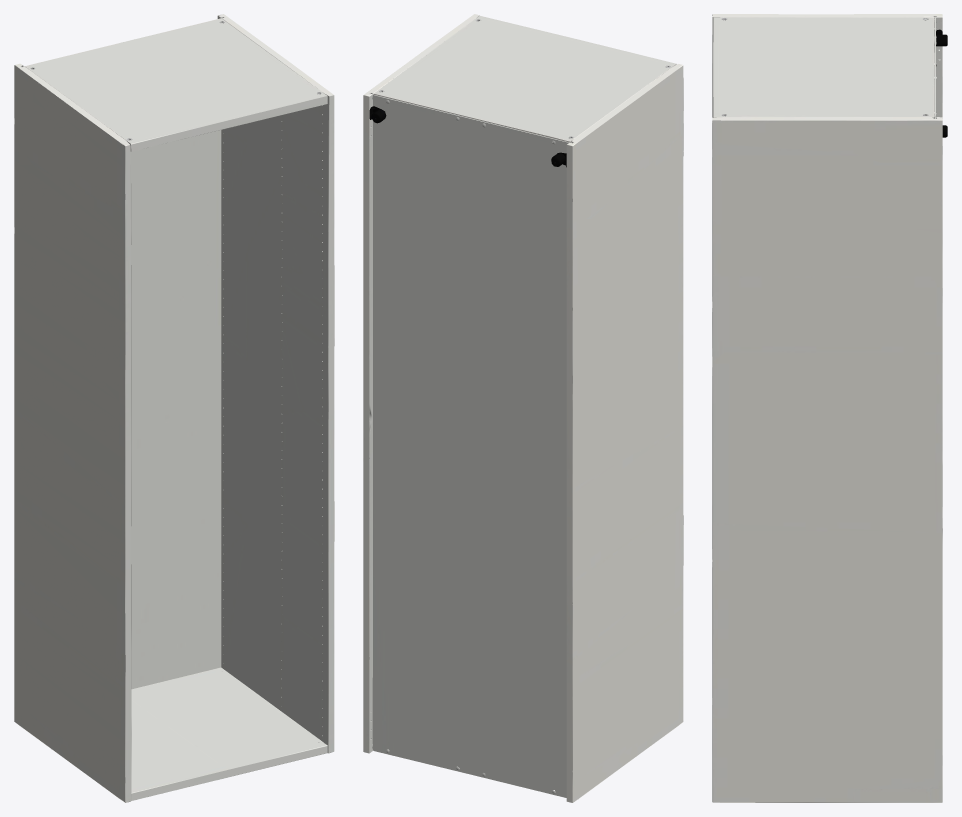
File: platsa_obudowa_50330951.glb
3 views of the same model, side by side, from view 1: azimuth 30°, elevation 25°; view 2: azimuth 150°, elevation 25°; view 3: azimuth 270°, elevation 25° (orthographic). The views are drawn at different scales.
Parts seen in each view (by area): view 1: platsa_obudowa_50330951; view 2: platsa_obudowa_50330951; view 3: platsa_obudowa_50330951.
Part boxes in pixels (box(x1,y1,x2,y2)): platsa_obudowa_50330951: box(14, 14, 334, 802); platsa_obudowa_50330951: box(363, 14, 683, 802); platsa_obudowa_50330951: box(712, 14, 947, 802).
Size of the model in its own units: 0.6007 by 1.8 by 0.5624.
1 material, 1 textured.
